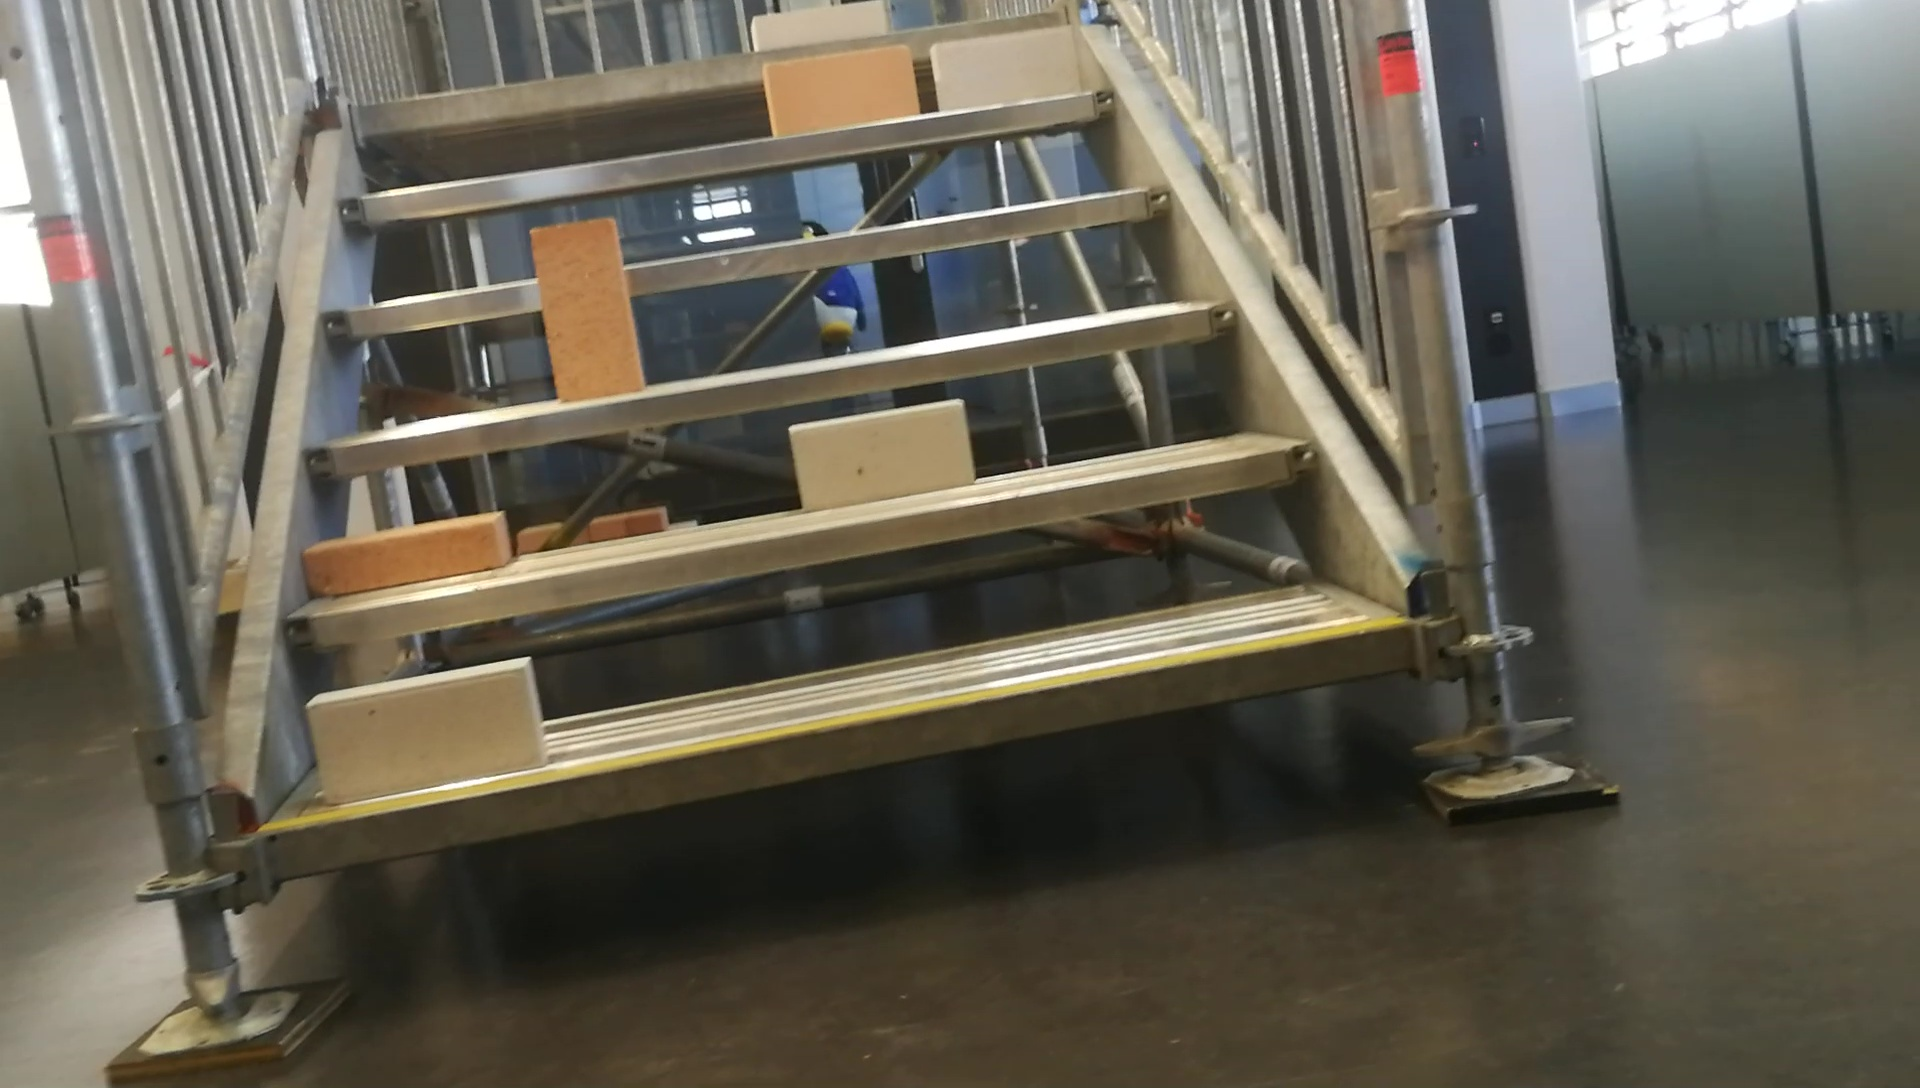brick: (302, 659, 545, 798), (530, 218, 642, 405), (793, 401, 975, 510), (302, 508, 508, 601), (762, 44, 913, 137), (934, 32, 1073, 112), (750, 3, 885, 45)
edge: (265, 625, 1415, 862), (293, 444, 1323, 640), (307, 305, 1230, 475), (326, 187, 1174, 330), (340, 94, 1113, 222)
stairs: (102, 3, 1618, 1083)
steps: (256, 3, 1429, 882)
